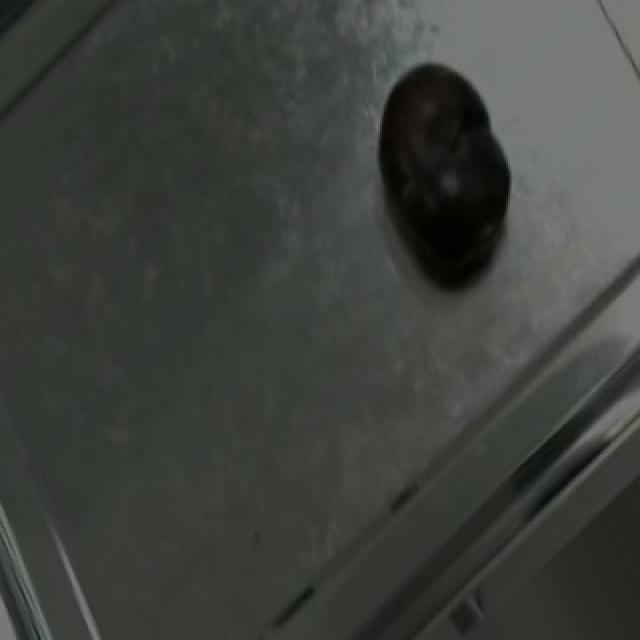Fruit: (360, 42, 530, 248)
